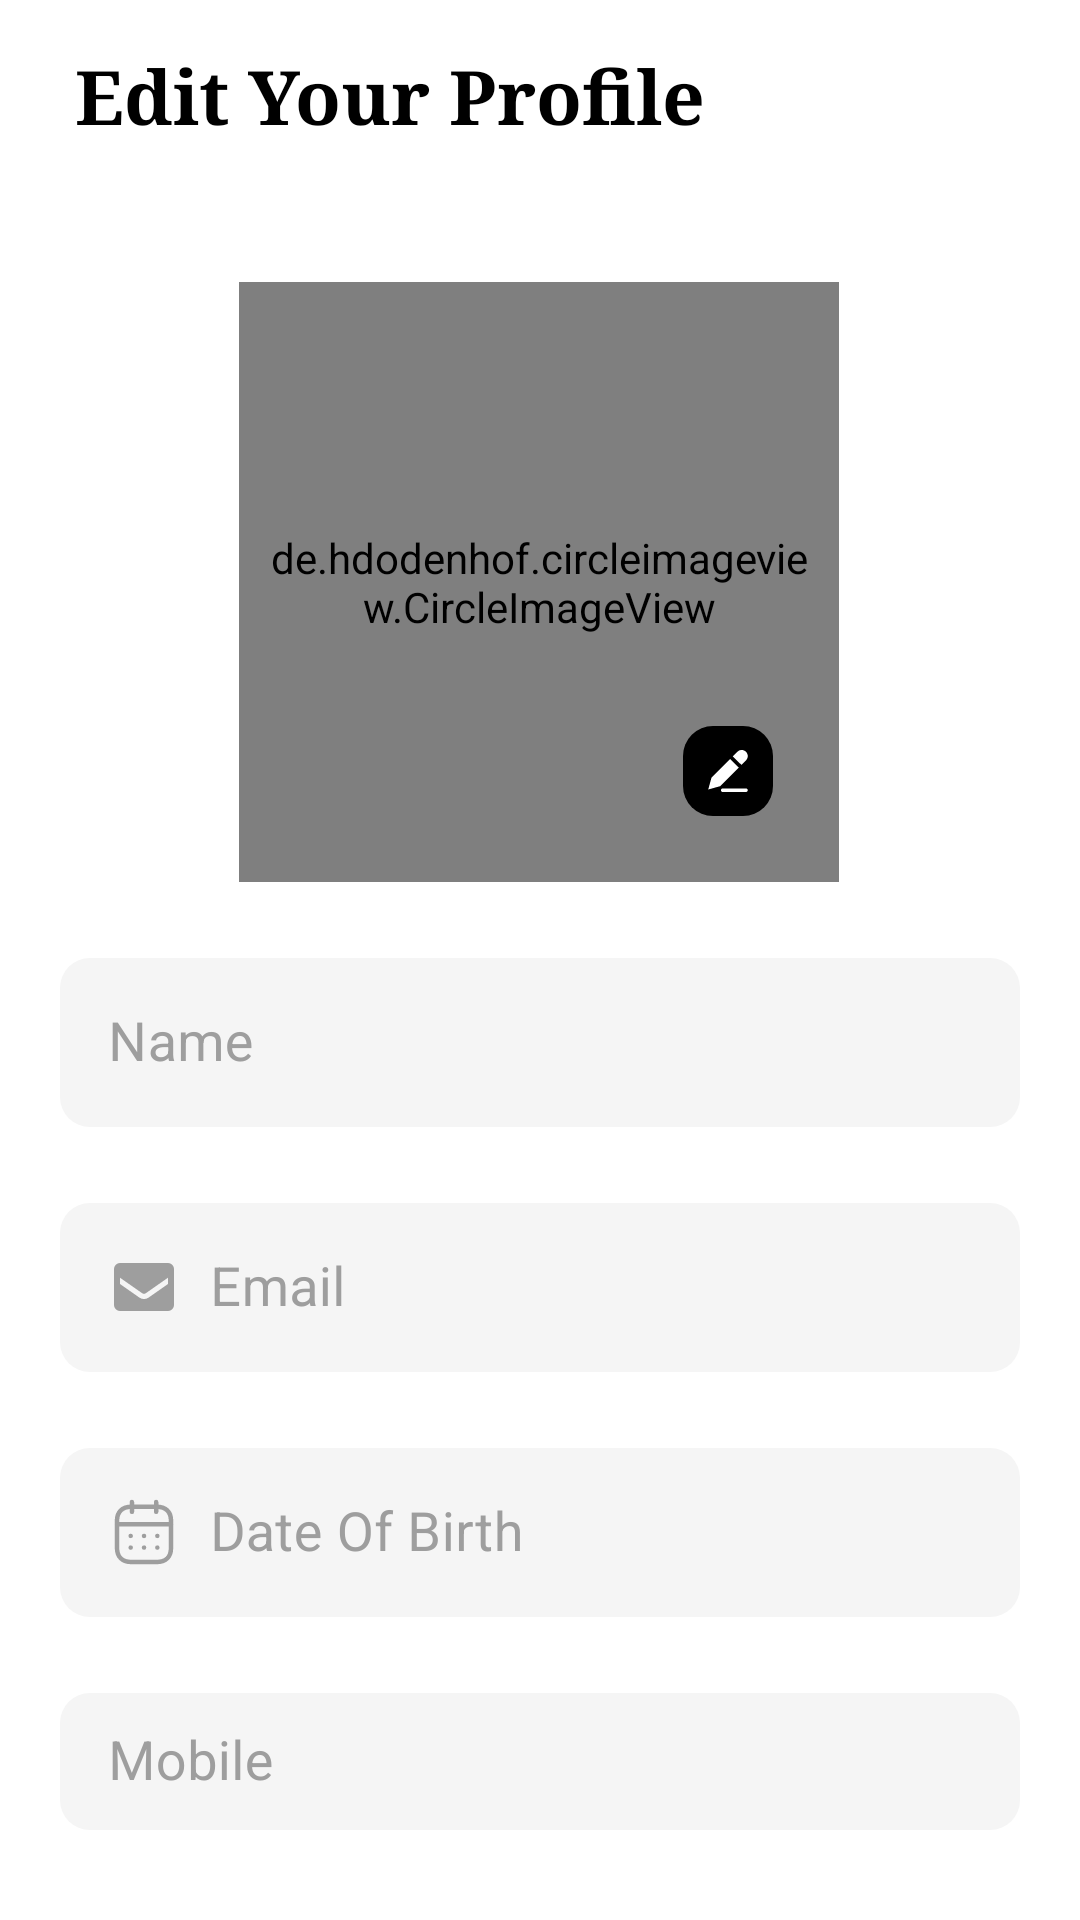

Point at icon controls on the screen. Image size 1080px×1920px, points as (x=x, y=y).
pencil: (x=728, y=771)
